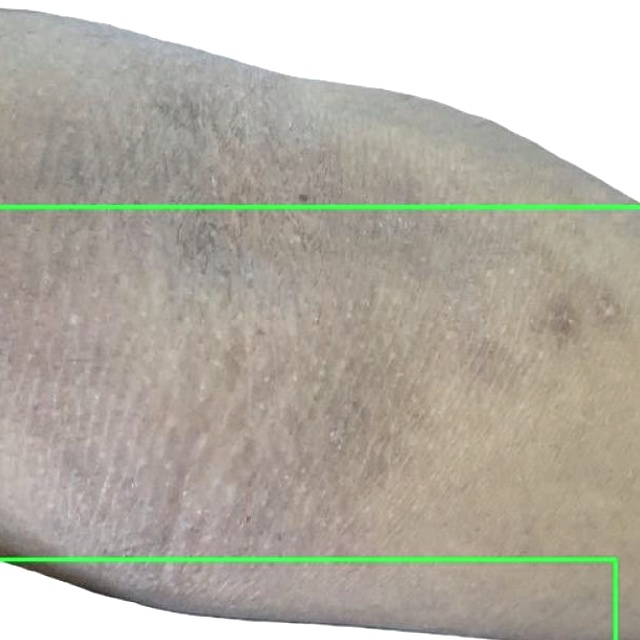Contact Dermatitis: (0, 0, 639, 206), (0, 559, 615, 639)
